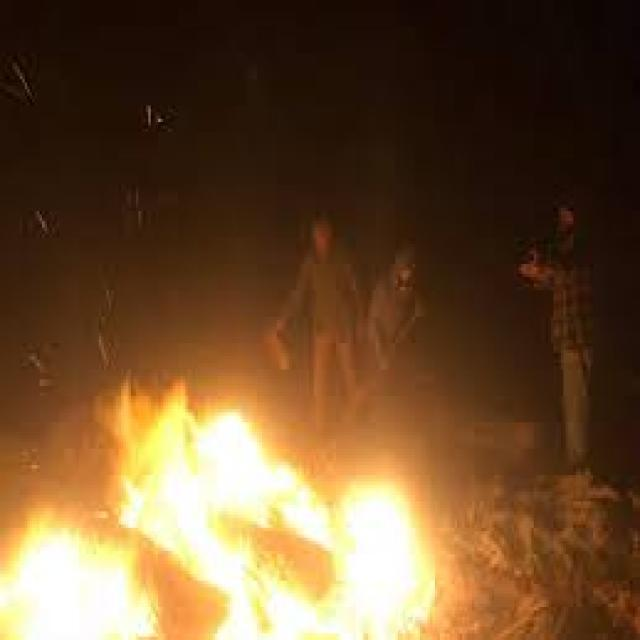Fire: (0, 366, 435, 640)
